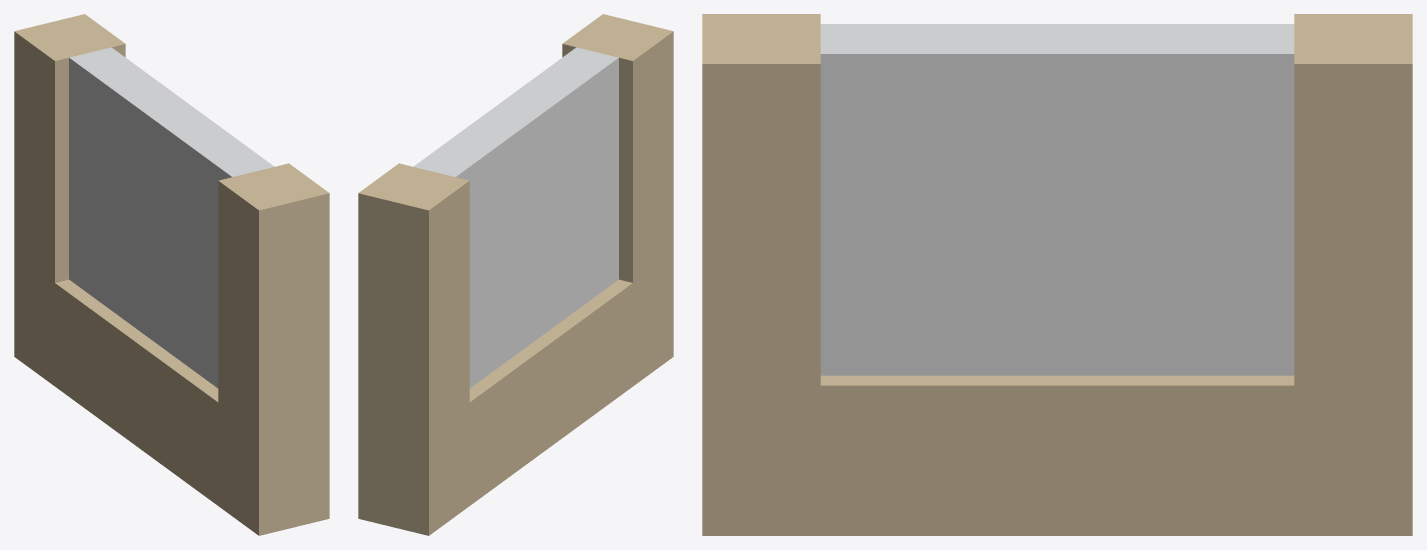
File: Wood_Border_Wall_01.glb
3 renders of one model, left to right at view 1: azimuth 30°, elevation 25°; view 2: azimuth 150°, elevation 25°; view 3: azimuth 270°, elevation 25°, orthographic. The views are drawn at different scales.
Visible parts, largest first — view 1: Wood_Border_Wall_01; view 2: Wood_Border_Wall_01; view 3: Wood_Border_Wall_01.
Part boxes in pixels (<box>): Wood_Border_Wall_01: <box>14,14,329,535</box>; Wood_Border_Wall_01: <box>358,14,673,535</box>; Wood_Border_Wall_01: <box>702,14,1412,535</box>.
Bounding box in the file's own units: 0.5001 × 2.2 × 3.
